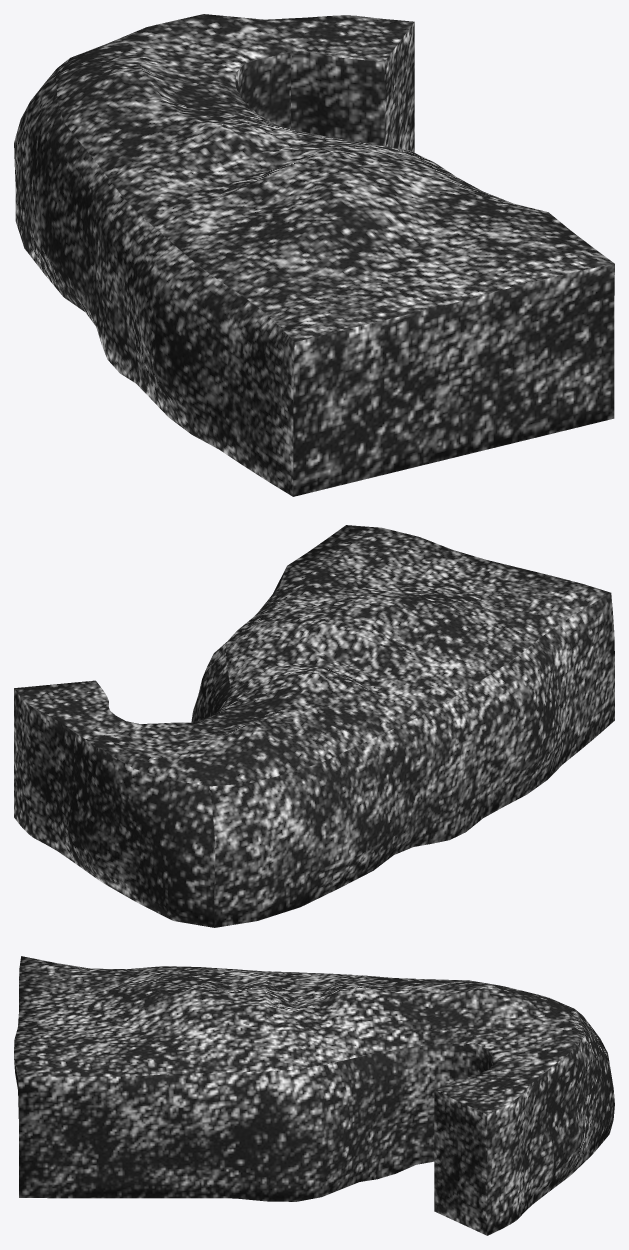
File: nivel_1.dae
3 renders of one model, top to bottom at view 1: azimuth 30°, elevation 25°; view 2: azimuth 150°, elevation 25°; view 3: azimuth 270°, elevation 25°, orthographic. The views are drawn at different scales.
Visible parts, largest first — view 1: nivel_1-col; view 2: nivel_1-col; view 3: nivel_1-col.
Boxes of the visible parts, <box> form: nivel_1-col: <box>14,14,614,496</box>; nivel_1-col: <box>14,525,614,927</box>; nivel_1-col: <box>14,956,614,1235</box>.
Bounding box in the file's own units: 27.82 × 41.7 × 12.4.
